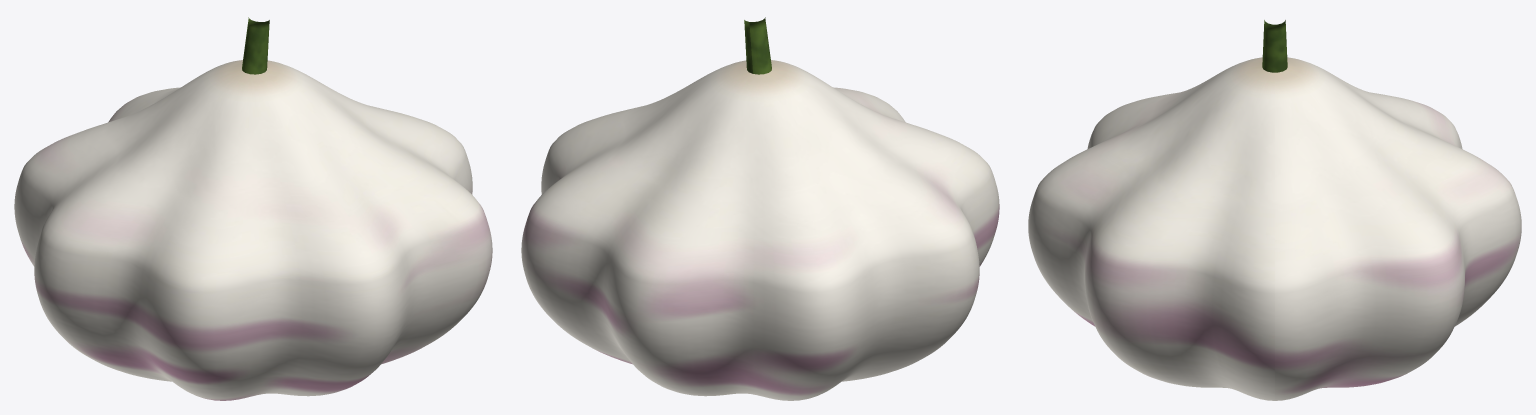
File: ail.glb
3 views of the same model, side by side, from view 1: azimuth 30°, elevation 25°; view 2: azimuth 150°, elevation 25°; view 3: azimuth 270°, elevation 25° (orthographic).
Parts seen in each view (by area): view 1: entier_peau, moitie_A_peau, moitie_B_peau, entier_extra0; view 2: entier_peau, moitie_B_peau, moitie_A_peau, entier_extra0; view 3: entier_peau, moitie_B_peau, moitie_A_peau, entier_extra0.
Part boxes in pixels (box(x1,y1,x2,y2)): entier_peau: box(14, 60, 492, 400); moitie_A_peau: box(43, 66, 492, 400); moitie_B_peau: box(14, 60, 436, 324); entier_extra0: box(242, 17, 269, 74); entier_peau: box(521, 60, 999, 400); moitie_B_peau: box(521, 66, 970, 400); moitie_A_peau: box(577, 60, 999, 322); entier_extra0: box(744, 17, 771, 74); entier_peau: box(1029, 57, 1520, 400); moitie_B_peau: box(1275, 57, 1521, 400); moitie_A_peau: box(1028, 57, 1274, 400); entier_extra0: box(1262, 20, 1287, 72).
Bounding box in the file's own units: 0.0511 × 0.0401 × 0.0511.
Materials: 3 (3 with a texture image).
